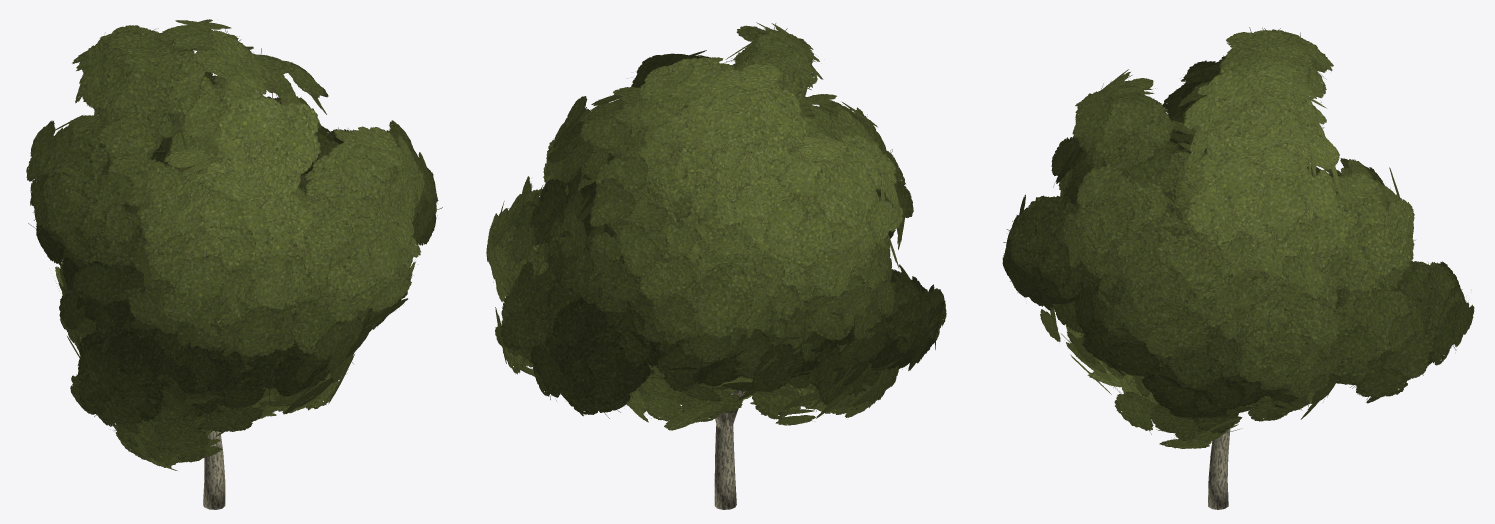
File: SM_Albero_LatifogliaA.fbx
3 views of the same model, side by side, from view 1: azimuth 30°, elevation 25°; view 2: azimuth 150°, elevation 25°; view 3: azimuth 270°, elevation 25° (orthographic). The views are drawn at different scales.
Visible parts, largest first — view 1: SM_Albero_LatifogliaA; view 2: SM_Albero_LatifogliaA; view 3: SM_Albero_LatifogliaA.
Part boxes in pixels (<box>): SM_Albero_LatifogliaA: <box>26,19,442,509</box>; SM_Albero_LatifogliaA: <box>486,22,946,509</box>; SM_Albero_LatifogliaA: <box>1002,27,1474,509</box>.
Size of what is drawn, in the model's own units: 1816 by 2091 by 2121.
Materials: 2 (2 with a texture image).
